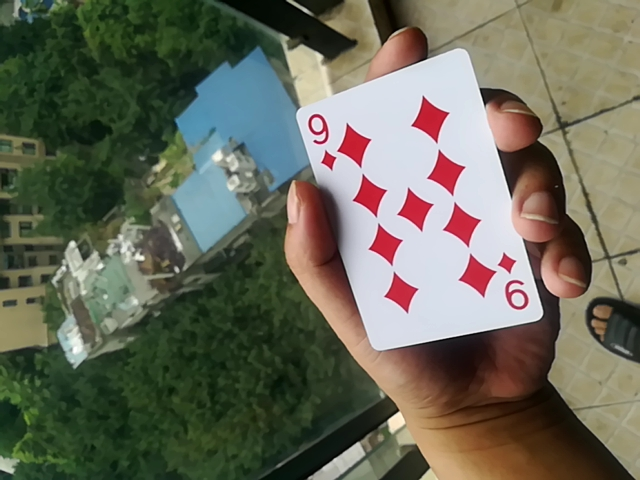fk 9: (293, 41, 537, 355)
